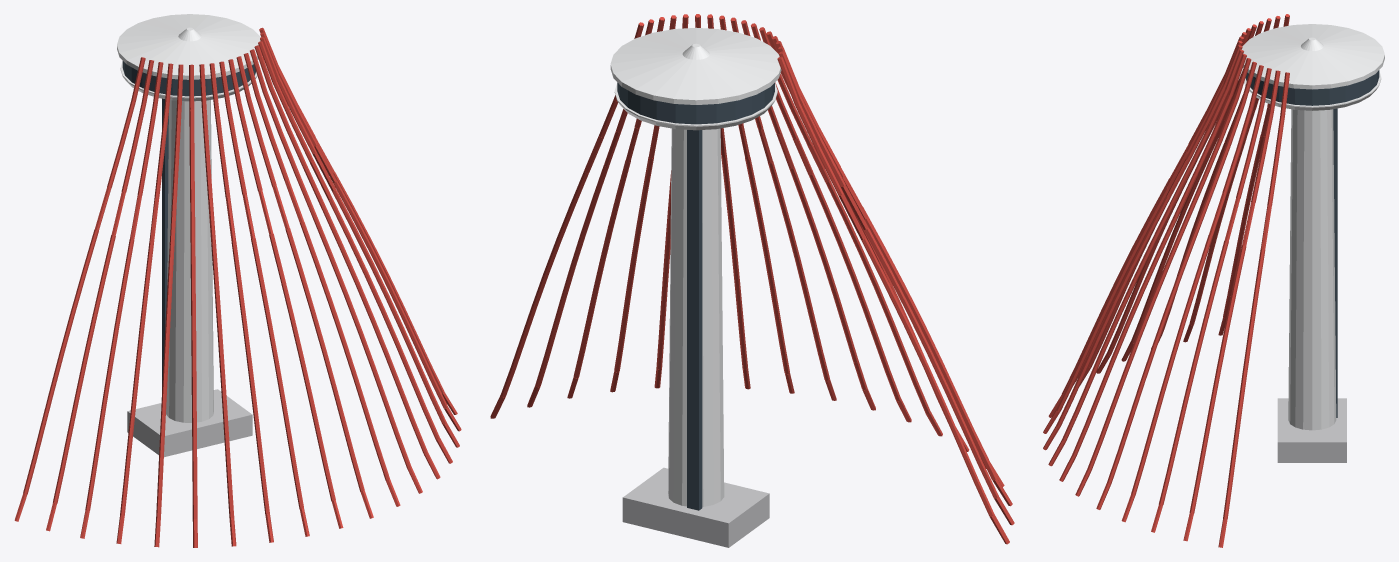
The model's file is cota_tower.glb.
3 renders of one model, left to right at view 1: azimuth 30°, elevation 25°; view 2: azimuth 150°, elevation 25°; view 3: azimuth 270°, elevation 25°, orthographic. The views are drawn at different scales.
Visible parts, largest first — view 1: veil, core, deck; view 2: veil, core, deck; view 3: veil, core, deck.
Boxes of the visible parts, x1,y1,x2,y2 form: veil: (14,27,461,547); core: (127,98,252,457); deck: (117,14,260,101); veil: (490,14,1014,544); core: (622,128,769,547); deck: (610,27,781,130); veil: (1043,14,1289,547); core: (1277,108,1346,462); deck: (1241,24,1384,110).
Size of the model in its own units: 88.14 by 77 by 59.31.
